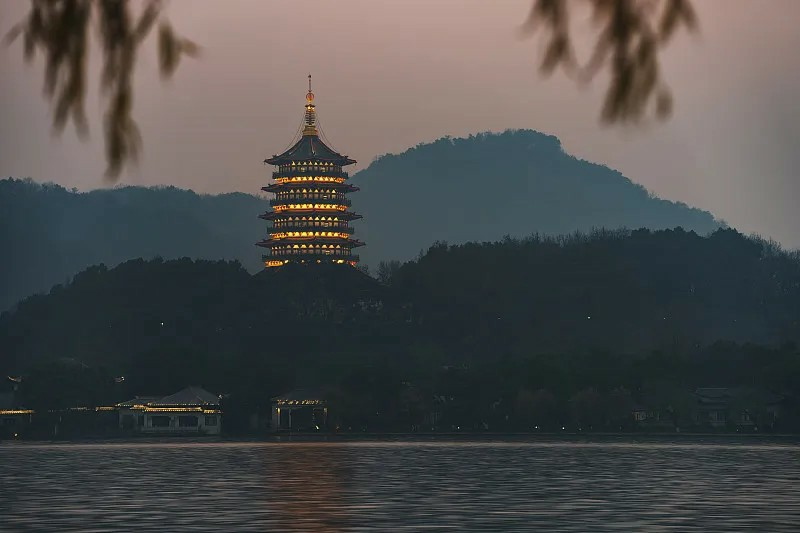Leifeng: (256, 72, 367, 269)
